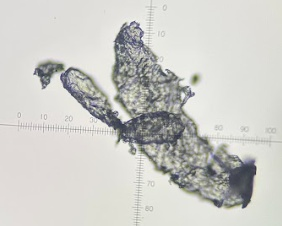microplastic: (112, 21, 256, 209), (60, 67, 127, 134), (116, 111, 185, 144), (33, 60, 64, 89), (129, 142, 136, 155), (192, 75, 198, 84)
